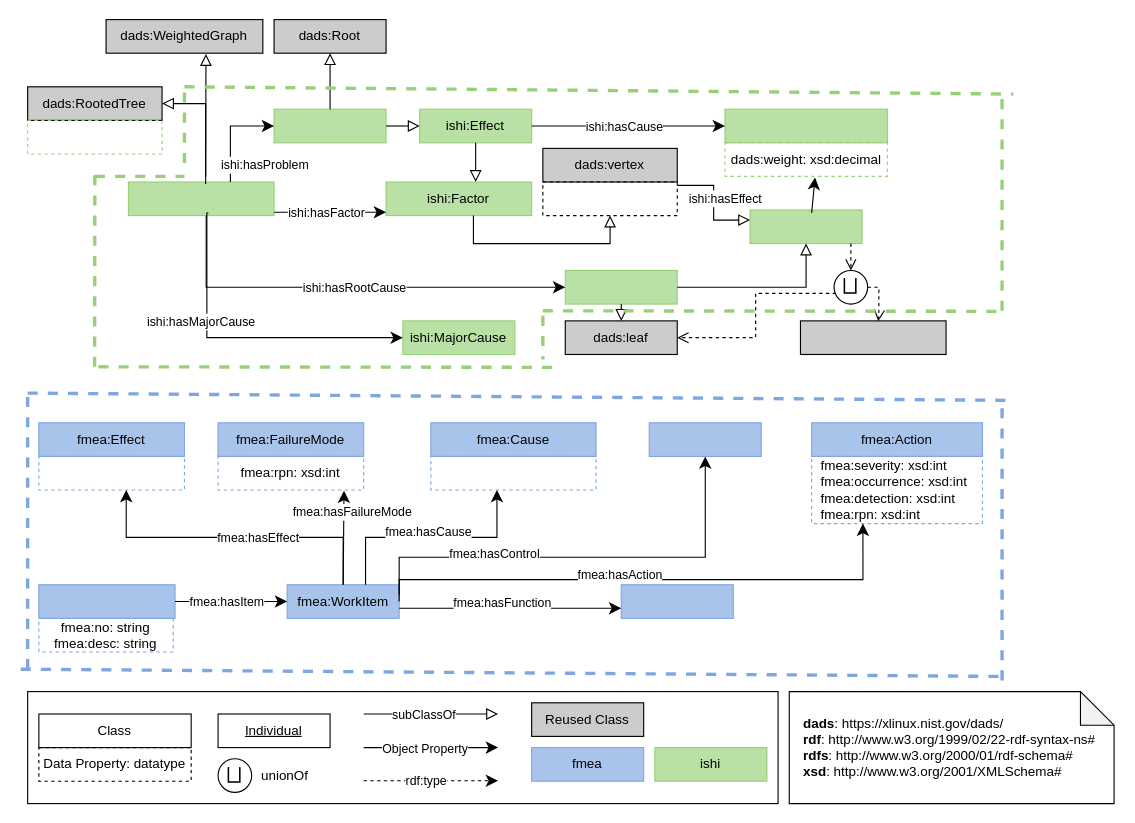
Image size: 1135x823. Some labels were removed from this diagram. Each missing label, with the box of its shape:
dads:depth: xsd:int: (542, 181, 677, 216)
dads:height: xsd:int: (27, 119, 162, 154)
dads:internalNode: (799, 320, 946, 354)
fmea:Control: (648, 422, 761, 456)
fmea:Function: (620, 584, 733, 618)
fmea:occurrence: xsd:int fmea:detection: xsd:int: (430, 455, 596, 490)
fmea:severity: xsd:int: (38, 455, 184, 490)
fmea:Worksheet: (38, 584, 175, 618)
ishi:Cause: (749, 209, 862, 244)
ishi:CauseEffect: (724, 108, 887, 143)
ishi:Diagram: (127, 181, 274, 216)
ishi:Problem: (273, 108, 386, 143)
ishi:RootCause: (564, 269, 677, 304)
